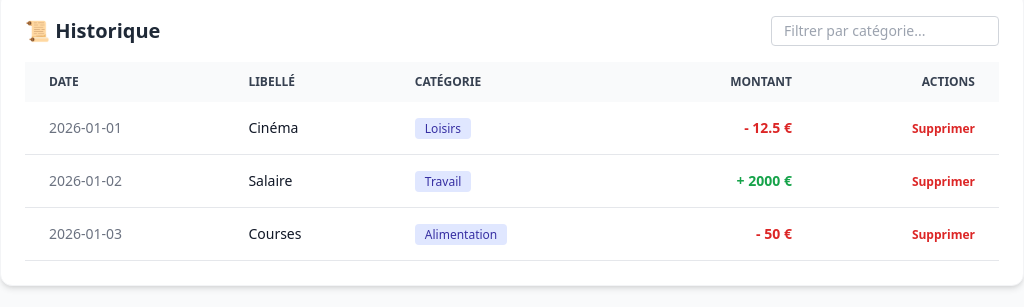
Test case: TransactionList Component › filtre les transactions par catégorie
Expected: the text "Cinéma" is shown, [224,102,391,154]
Note: Saisir "Loisirs" dans le filtre
Type "Loisirs" into the field with placeholder "Filtrer par catégorie..." at (885, 31), box [771,16,999,46]
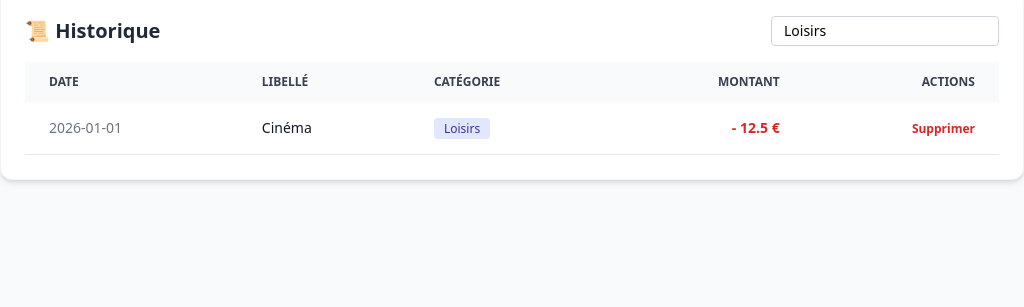
Expected: the text "Cinéma" is shown, [238,102,410,154]
Expected: the text "Salaire" is gone
